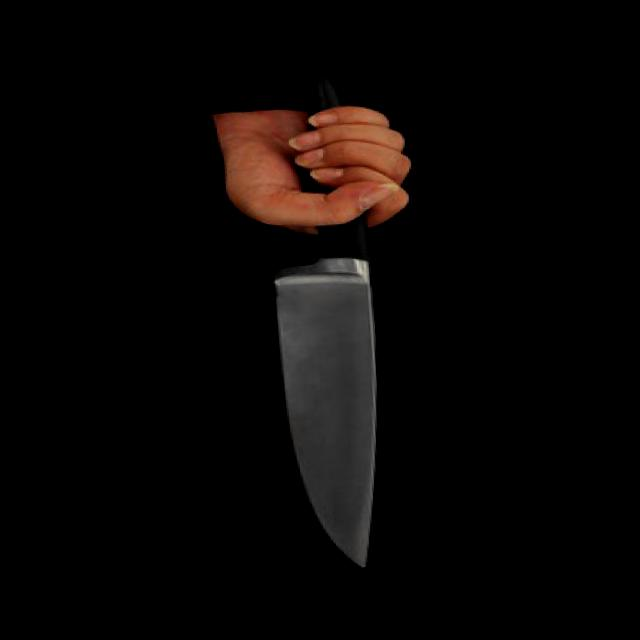knife: (222, 100, 442, 582)
